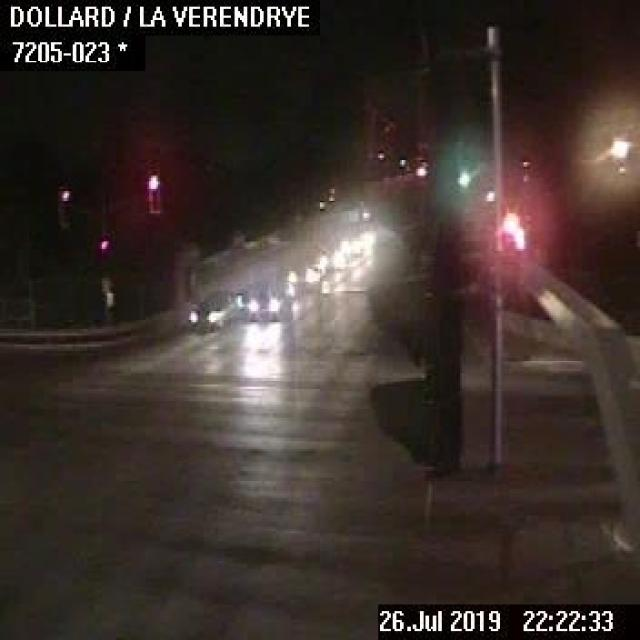vehicle: (185, 288, 241, 334), (244, 279, 286, 322), (284, 262, 322, 286), (314, 248, 348, 274), (336, 234, 365, 258)
